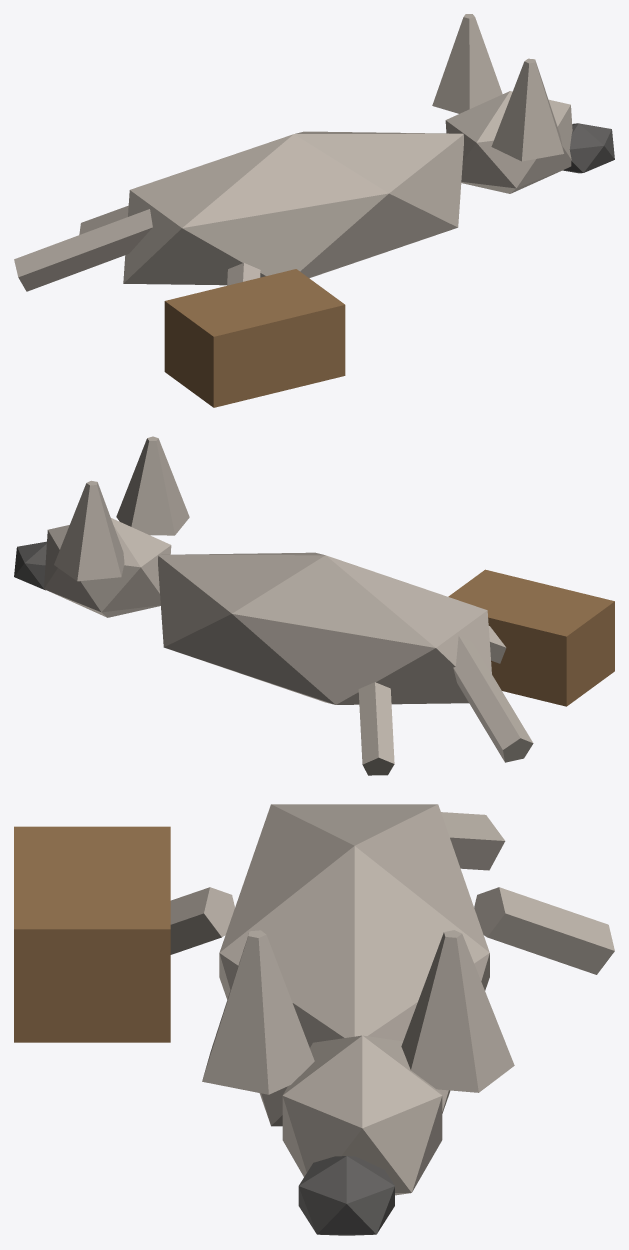
The model's file is harthmere_wolf_carcass.lod1.glb.
3 renders of one model, top to bottom at view 1: azimuth 30°, elevation 25°; view 2: azimuth 150°, elevation 25°; view 3: azimuth 270°, elevation 25°, orthographic. The views are drawn at different scales.
Size of the model in its own units: 2.63 by 0.88 by 1.54.
